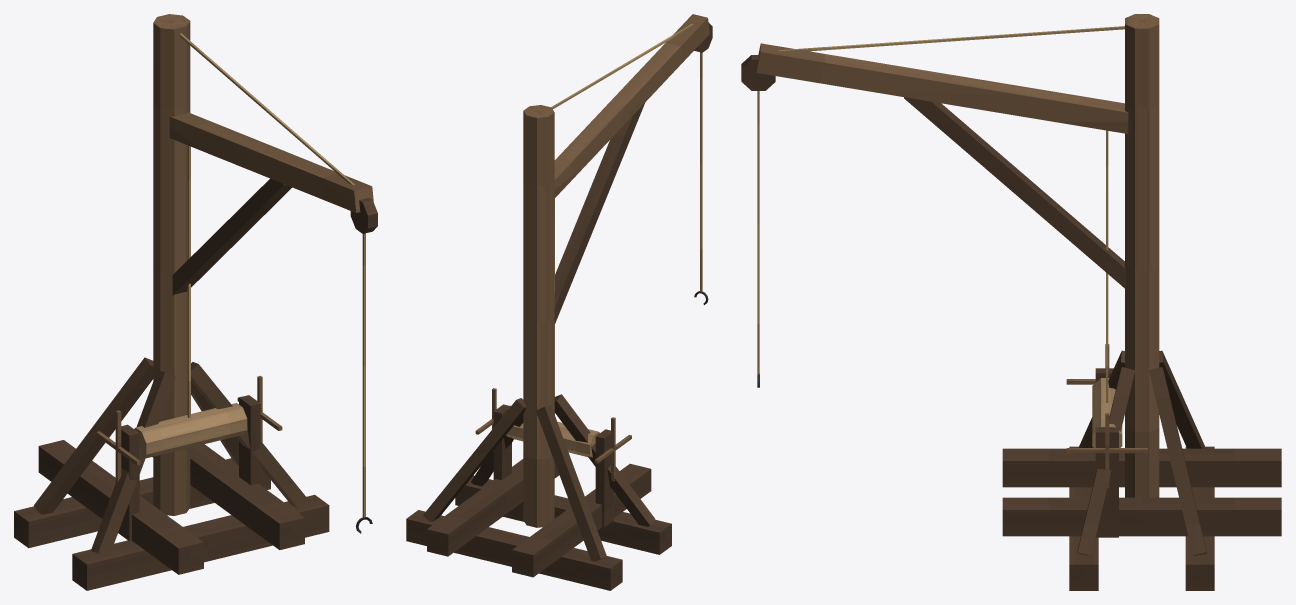
File: quay-crane.glb
3 views of the same model, side by side, from view 1: azimuth 30°, elevation 25°; view 2: azimuth 150°, elevation 25°; view 3: azimuth 270°, elevation 25° (orthographic). The views are drawn at different scales.
Parts seen in each view (by area): view 1: jib, base.001; view 2: jib, base.001; view 3: jib, base.001.
Part boxes in pixels (bbox=[...]): jib: bbox=[96, 14, 377, 541]; base.001: bbox=[14, 357, 329, 590]; jib: bbox=[475, 14, 712, 527]; base.001: bbox=[406, 394, 671, 590]; jib: bbox=[741, 14, 1159, 537]; base.001: bbox=[1002, 350, 1281, 590].
Bounding box in the file's own units: 2.4 × 4.85 × 4.65.
Materials: 1 (1 with a texture image).
